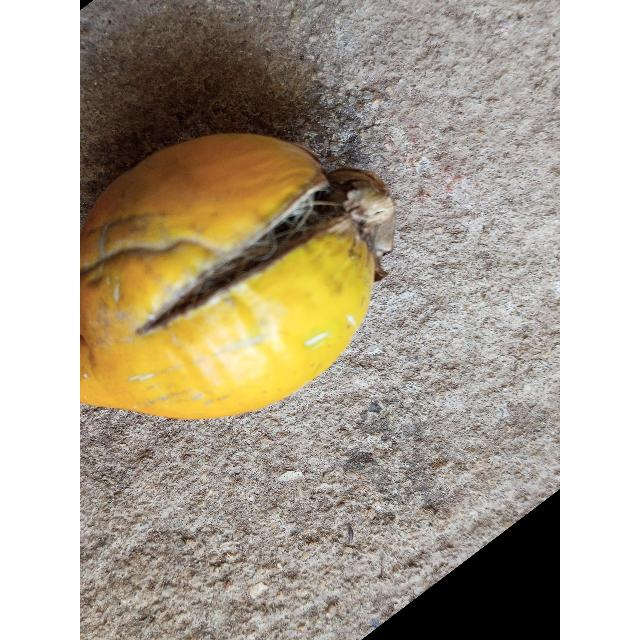damaged: (80, 134, 395, 419)
